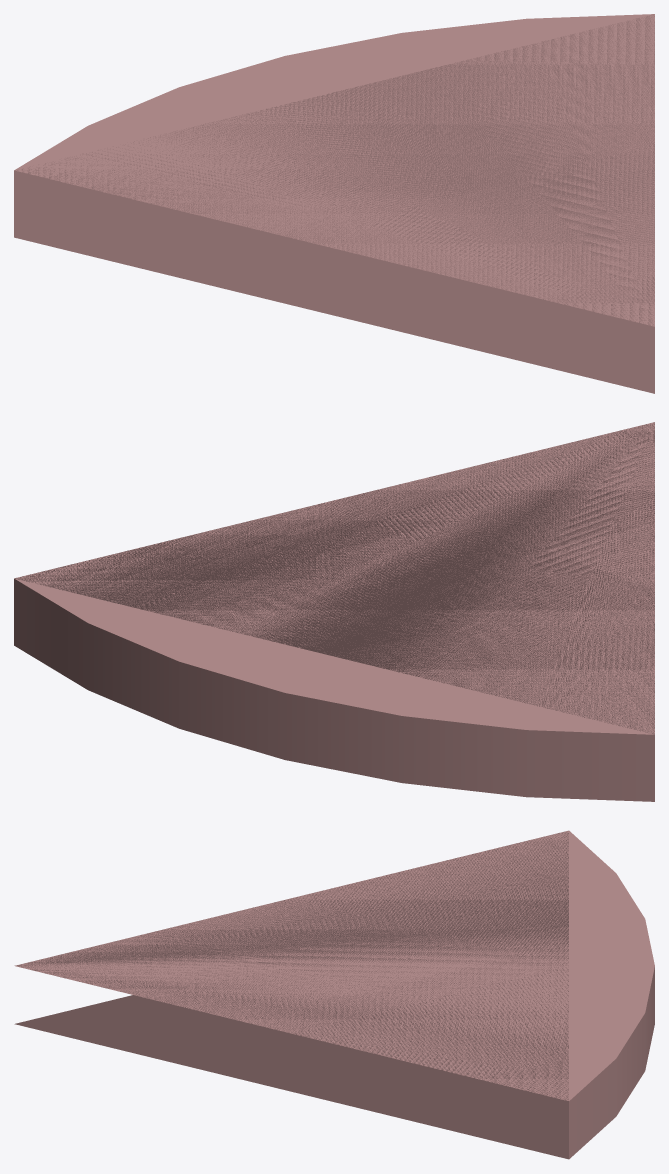
The model's file is body_7.fbx.
The picture shows the model from 3 angles, top to bottom: view 1: azimuth 30°, elevation 25°; view 2: azimuth 150°, elevation 25°; view 3: azimuth 270°, elevation 25°; orthographic projection. The views are drawn at different scales.
Visible parts, largest first — view 1: pCylinder146; view 2: pCylinder146; view 3: pCylinder146.
Part boxes in pixels (x1,y1,x2,y2): pCylinder146: [14, 14, 654, 393]; pCylinder146: [14, 422, 654, 801]; pCylinder146: [14, 830, 654, 1159].
Size of the model in its own units: 4.12 by 0.4121 by 4.12.
